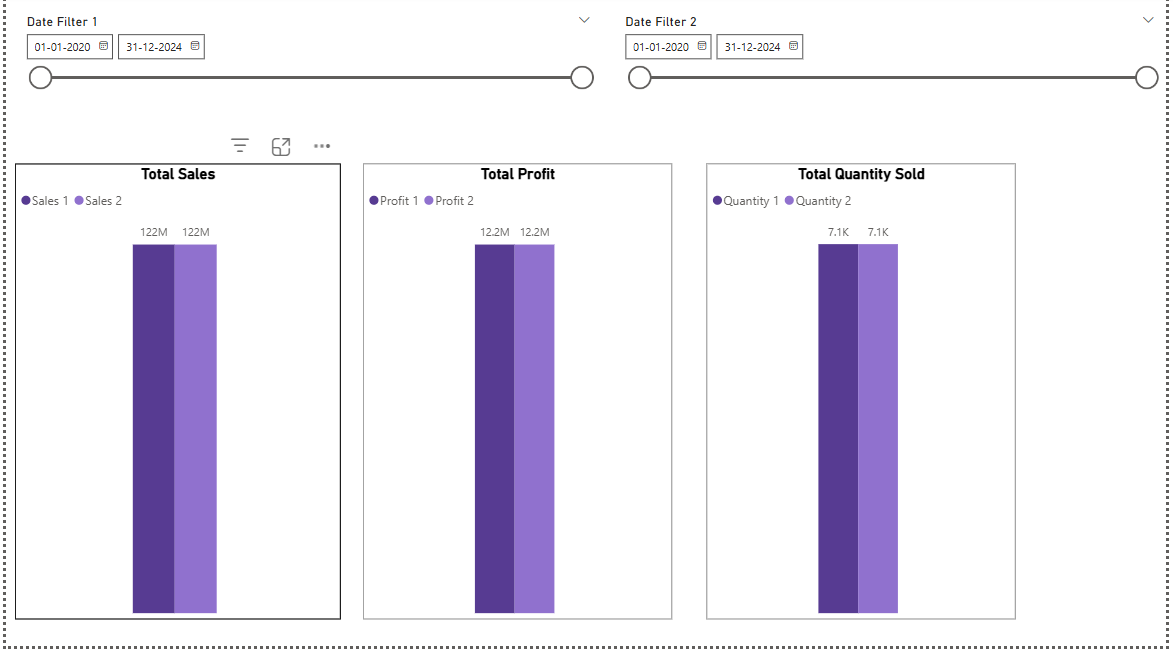

The page's visual inventory and layout, read from the dashboard file:
{"tool":"powerbi","page":{"name":"Comparison Sales/Profit/Quantity","canvas":[1280,720],"ordinal":2},"visuals":[{"type":"slicer","fields":{"Values":["Date Table 1.Date"]},"box":[9.9,16.6,647.7,157.4],"z":0},{"type":"slicer","fields":{"Values":["Date Table 2.Date"]},"box":[670.9,16.6,609.6,157.4],"z":1000},{"type":"clusteredColumnChart","title":"Total Sales","fields":{"Y":["Sum(Fact Table.Net Sales  )","Date Table 1.Sum of Net Sales"]},"box":[9.9,187.2,359.5,503.6],"z":2000},{"type":"clusteredColumnChart","title":"Total Profit","fields":{"Y":["Sum(Fact Table.Profit)","Date Table 1.Total Profit"]},"box":[394.2,187.2,341.2,503.6],"z":3000},{"type":"clusteredColumnChart","title":"Total Quantity Sold","fields":{"Y":["Sum(Fact Table.Units Sold)","Measures Table.Quantity Sold"]},"box":[773.6,187.2,341.2,503.6],"z":4000}]}

Visuals, with their boxes in screenshot pixels (x1, y1, x2, y2), scaled from the page's 1280x720 canvas onto the 1173x652 screenshot:
slicer - Date Table 1.Date: x1=9 y1=15 x2=603 y2=158
slicer - Date Table 2.Date: x1=615 y1=15 x2=1172 y2=158
"Total Sales" clusteredColumnChart: x1=9 y1=170 x2=339 y2=626
"Total Profit" clusteredColumnChart: x1=361 y1=170 x2=674 y2=626
"Total Quantity Sold" clusteredColumnChart: x1=709 y1=170 x2=1022 y2=626
